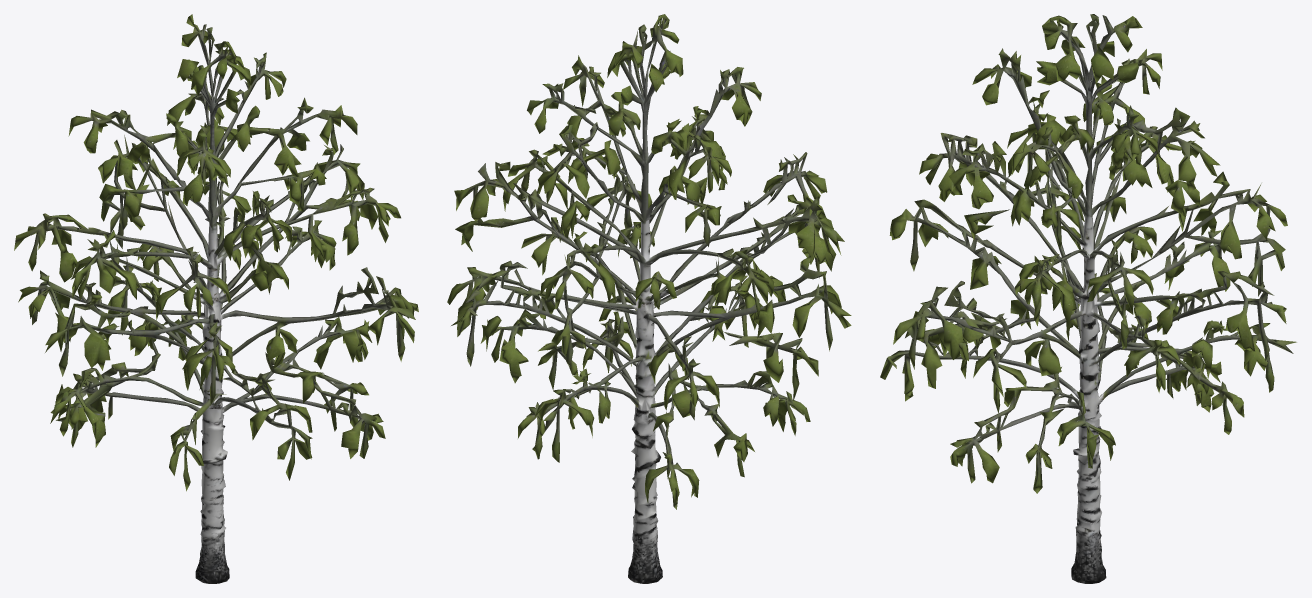
Rendered from tree_birch.glb.
The picture shows the model from 3 angles, left to right: view 1: azimuth 30°, elevation 25°; view 2: azimuth 150°, elevation 25°; view 3: azimuth 270°, elevation 25°; orthographic projection. The views are drawn at different scales.
Bounding box in the file's own units: 0.6821 × 1 × 0.6731.
1 material, 1 textured.
